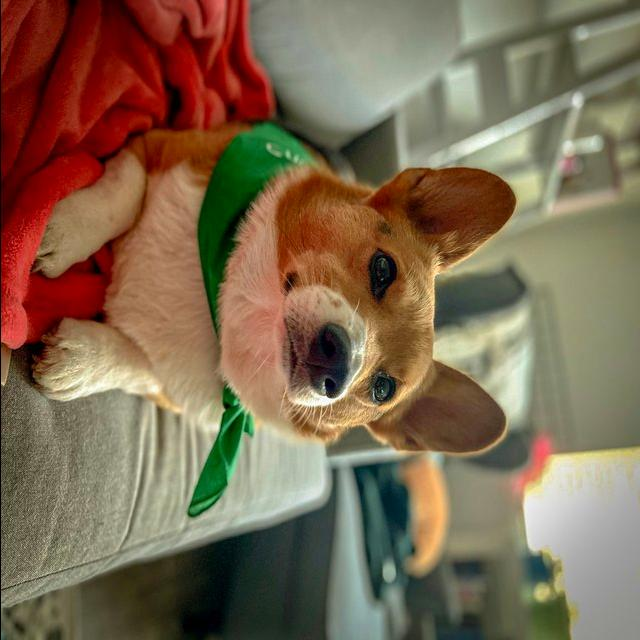corgi: (28, 119, 518, 467)
